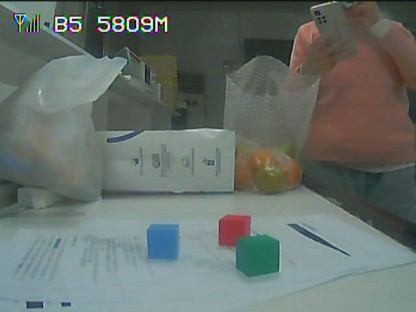b: (145, 224, 178, 258)
g: (238, 238, 279, 273)
r: (220, 216, 245, 243)
